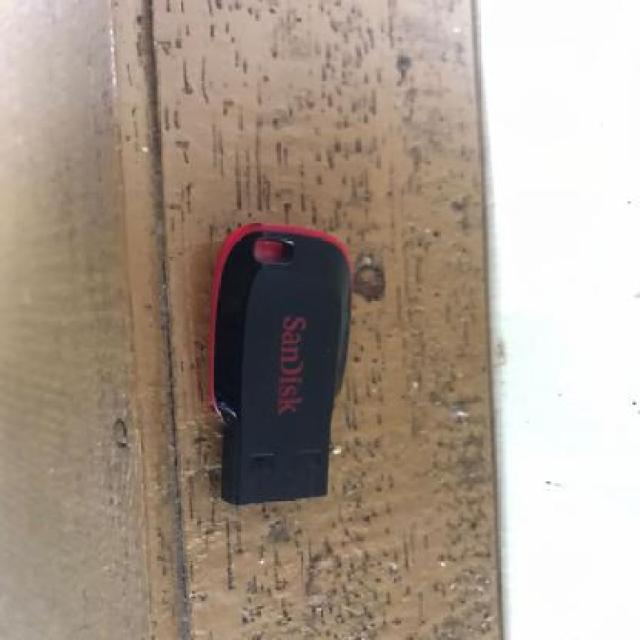Flashdisk: (190, 202, 368, 546)
